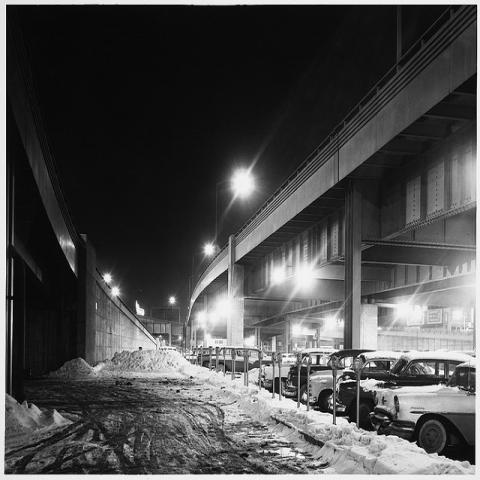car: (338, 350, 476, 431), (374, 360, 478, 452), (302, 351, 406, 412), (281, 349, 341, 398), (208, 348, 273, 373), (261, 356, 297, 380)
